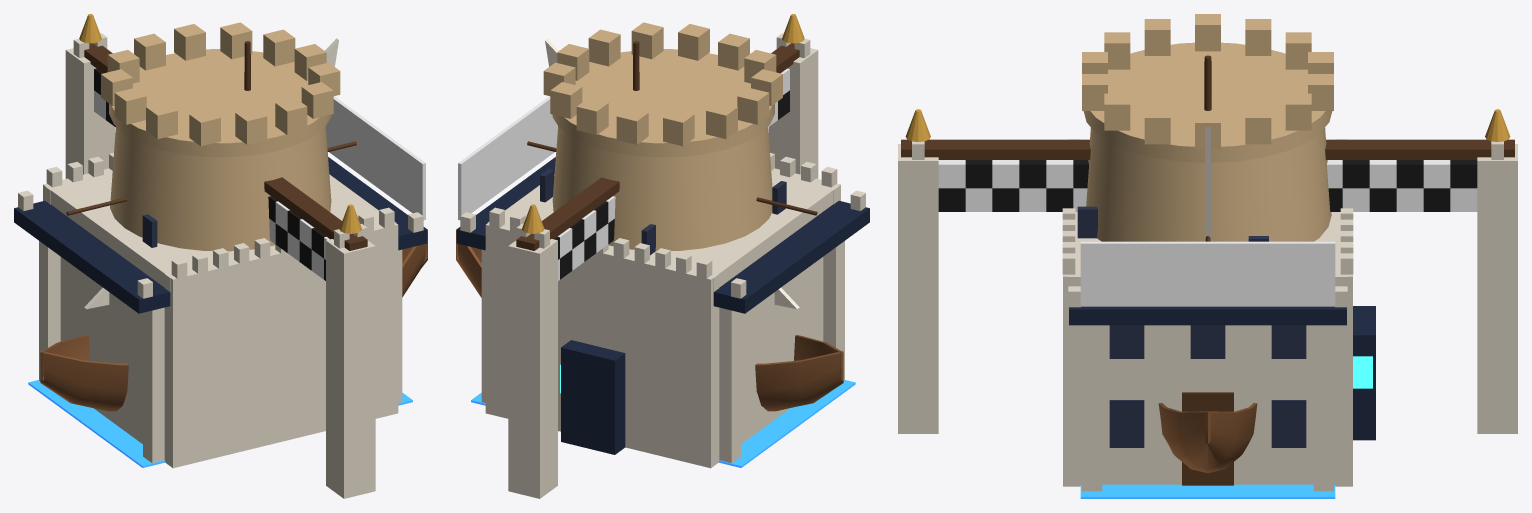
Rendered from race-kit.glb.
3 views of the same model, side by side, from view 1: azimuth 30°, elevation 25°; view 2: azimuth 150°, elevation 25°; view 3: azimuth 270°, elevation 25° (orthographic). The views are drawn at different scales.
Parts seen in each view (by area): view 1: House_Block, Fort_Tower, Finish_Arch, Pit_Station, Dhow, Pit_Sign; view 2: House_Block, Fort_Tower, Pit_Station, Finish_Arch, Dhow, Pit_Sign; view 3: Fort_Tower, Finish_Arch, House_Block, Pit_Station, Pit_Sign, Dhow.
Part boxes in pixels (left/top/right/bottom): House_Block: left=43, top=153, right=398, bottom=468; Fort_Tower: left=101, top=22, right=340, bottom=251; Finish_Arch: left=65, top=14, right=375, bottom=498; Pit_Station: left=14, top=157, right=427, bottom=467; Dhow: left=40, top=38, right=427, bottom=411; Pit_Sign: left=326, top=96, right=425, bottom=220; House_Block: left=485, top=153, right=840, bottom=468; Fort_Tower: left=540, top=22, right=786, bottom=255; Pit_Station: left=456, top=157, right=869, bottom=467; Finish_Arch: left=508, top=14, right=818, bottom=498; Dhow: left=456, top=38, right=843, bottom=411; Pit_Sign: left=458, top=96, right=557, bottom=220; Fort_Tower: left=1077, top=14, right=1333, bottom=241; Finish_Arch: left=898, top=109, right=1517, bottom=433; House_Block: left=1062, top=208, right=1353, bottom=486; Pit_Station: left=1068, top=139, right=1375, bottom=498; Pit_Sign: left=1080, top=241, right=1335, bottom=306; Dhow: left=1158, top=55, right=1257, bottom=473.
Bounding box in the file's own units: 8.6 × 7.3 × 10.7.
